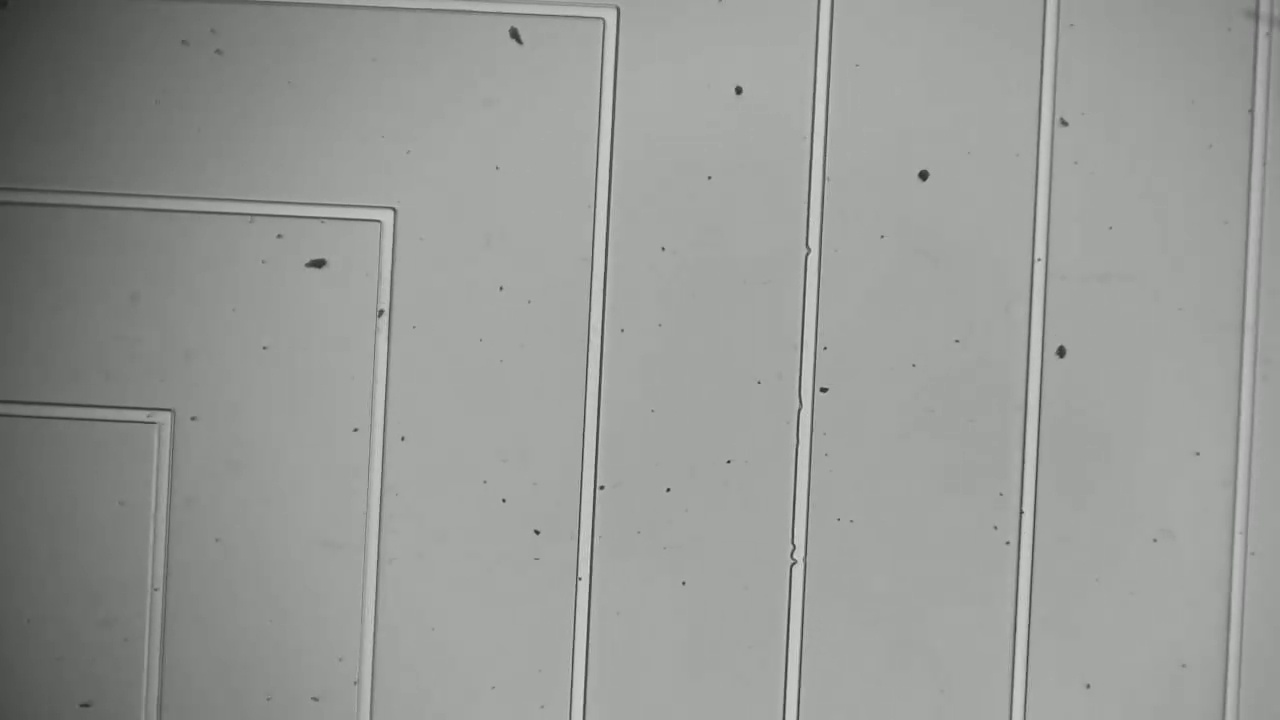edge_bite: (782, 538, 817, 569), (790, 387, 822, 418), (797, 234, 829, 262)
stains_enbedded: (370, 297, 397, 322)
